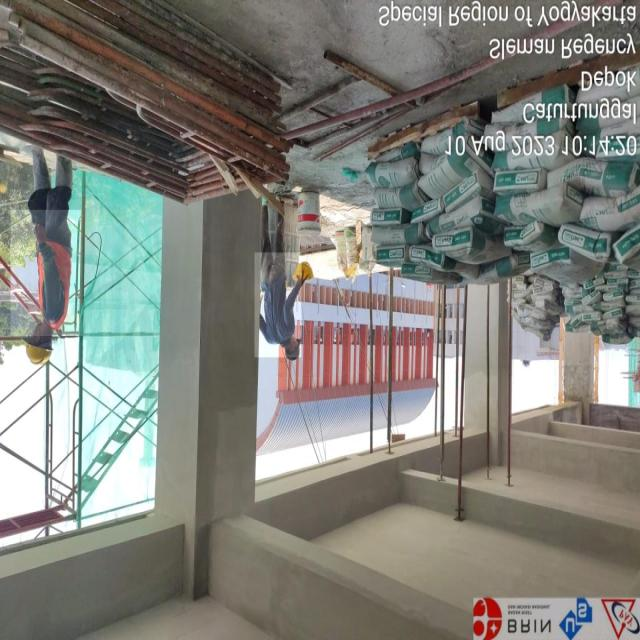Helmet: (254, 252, 302, 358), (16, 314, 64, 380), (278, 331, 322, 377)
Safety Vest: (11, 210, 83, 336)
